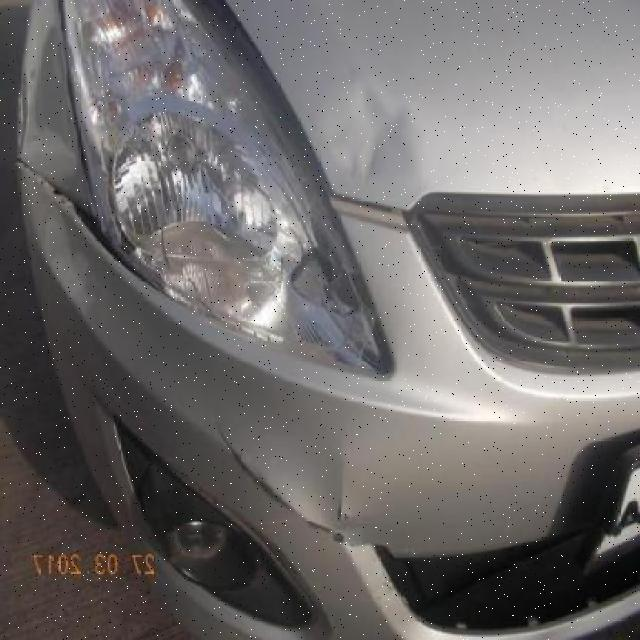damage: (17, 18, 99, 263), (209, 426, 351, 558), (299, 79, 416, 187), (330, 454, 363, 528)
